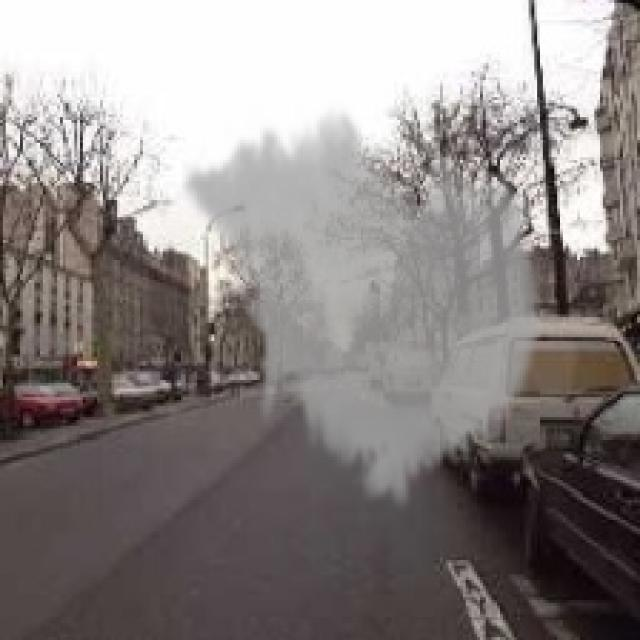Smoke: (180, 97, 546, 514)
